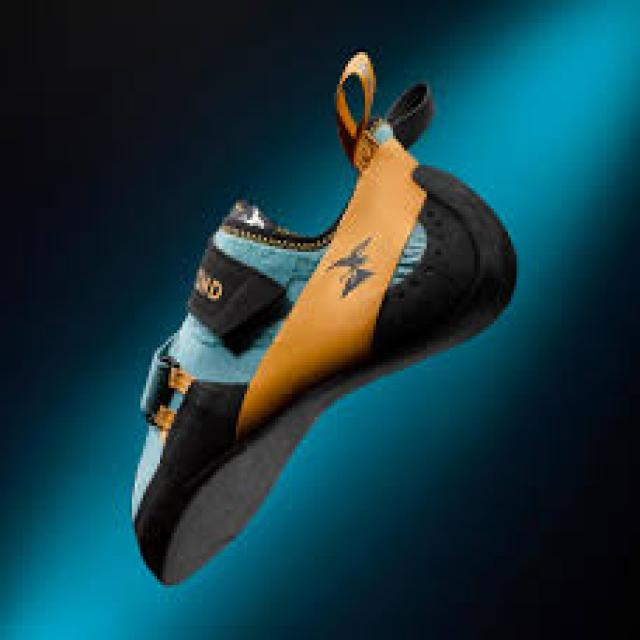climbing-shoes: (130, 47, 521, 585)
